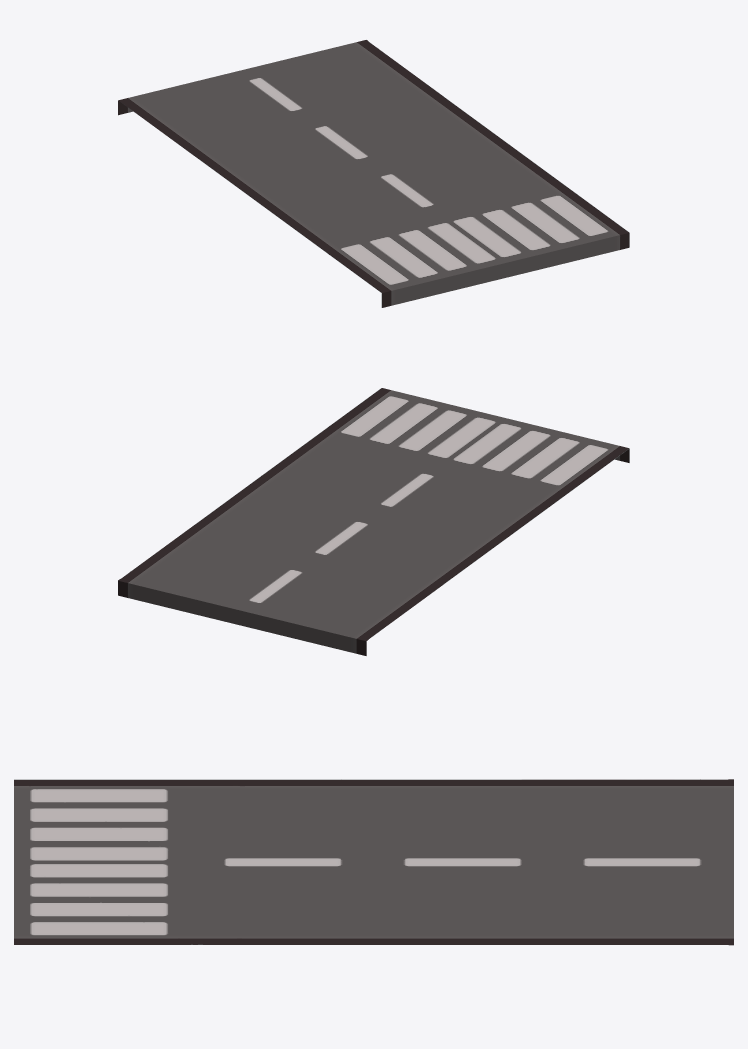
The model's file is Road_5.FBX.
3 renders of one model, top to bottom at view 1: azimuth 30°, elevation 25°; view 2: azimuth 150°, elevation 25°; view 3: azimuth 270°, elevation 25°, orthographic. The views are drawn at different scales.
Parts seen in each view (by area): view 1: Road_5; view 2: Road_5; view 3: Road_5.
Part boxes in pixels (x1=…): Road_5: x1=118, y1=40, x2=629, y2=307; Road_5: x1=118, y1=388, x2=629, y2=655; Road_5: x1=14, y1=779, x2=733, y2=945.
Bounding box in the file's own units: 1600 × 50 × 1600.
